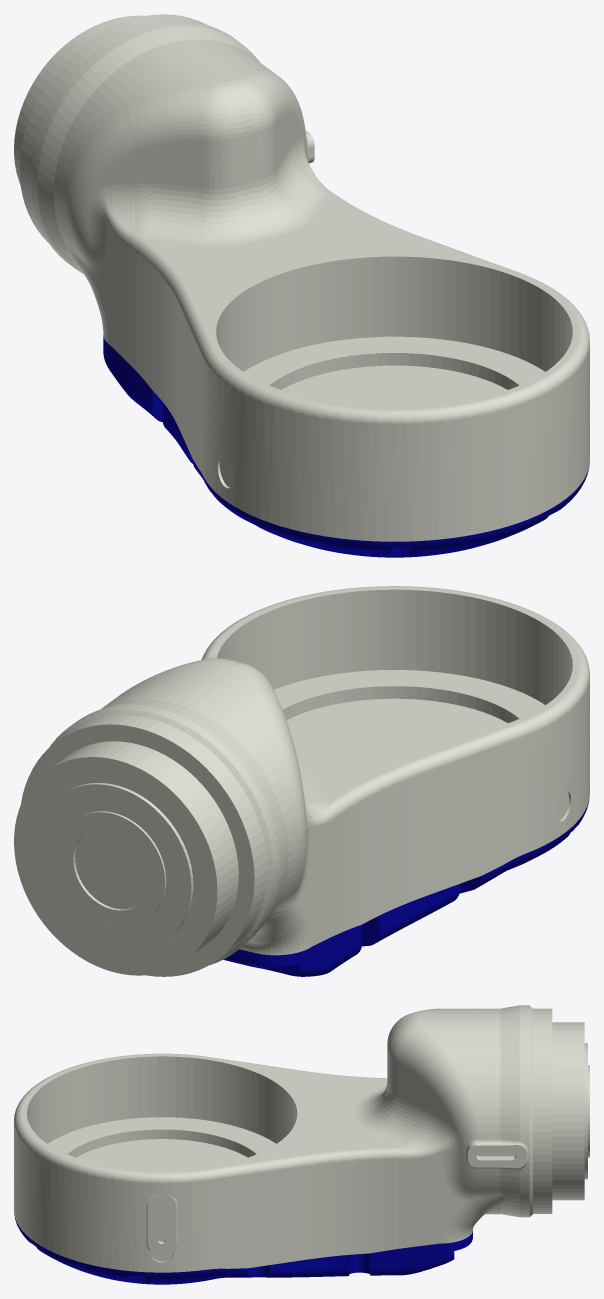
3 renders of one model, top to bottom at view 1: azimuth 30°, elevation 25°; view 2: azimuth 150°, elevation 25°; view 3: azimuth 270°, elevation 25°, orthographic. The views are drawn at different scales.
Visible parts, largest first — view 1: Base, Cover; view 2: Base, Cover; view 3: Base, Cover.
Boxes of the visible parts, box(x1,y1,x2,y2) form: Base: box(14, 14, 589, 541); Cover: box(103, 336, 589, 557); Base: box(14, 586, 589, 976); Cover: box(150, 798, 589, 976); Base: box(14, 1005, 589, 1272); Cover: box(14, 1215, 472, 1284).
Size of the model in its own units: 0.183 by 0.3557 by 0.1629.
